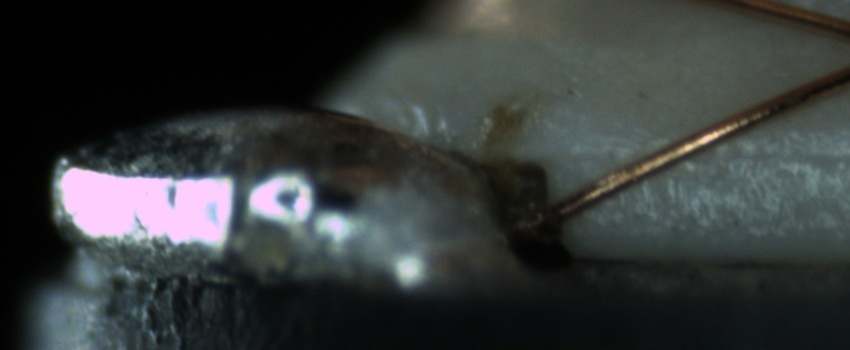DL: (605, 121, 850, 188)
